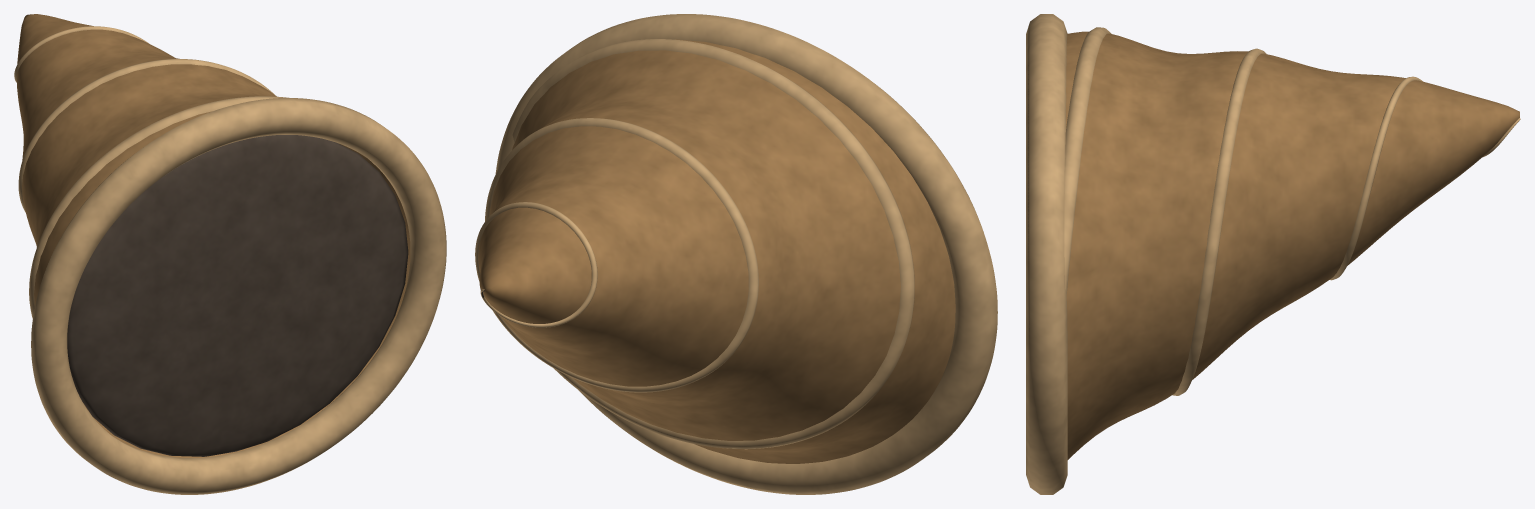
The model's file is hermit_shell.glb.
The picture shows the model from 3 angles, left to right: view 1: azimuth 30°, elevation 25°; view 2: azimuth 150°, elevation 25°; view 3: azimuth 270°, elevation 25°; orthographic projection. The views are drawn at different scales.
Parts seen in each view (by area): view 1: hermit_shell_textured_mesh; view 2: hermit_shell_textured_mesh; view 3: hermit_shell_textured_mesh.
Boxes of the visible parts, left/top/right/bottom form: hermit_shell_textured_mesh: left=14, top=14, right=446, bottom=494; hermit_shell_textured_mesh: left=475, top=14, right=997, bottom=494; hermit_shell_textured_mesh: left=1026, top=14, right=1520, bottom=494.
Size of the model in its own units: 1.66 by 1.47 by 1.55.
Materials: 1 (1 with a texture image).
